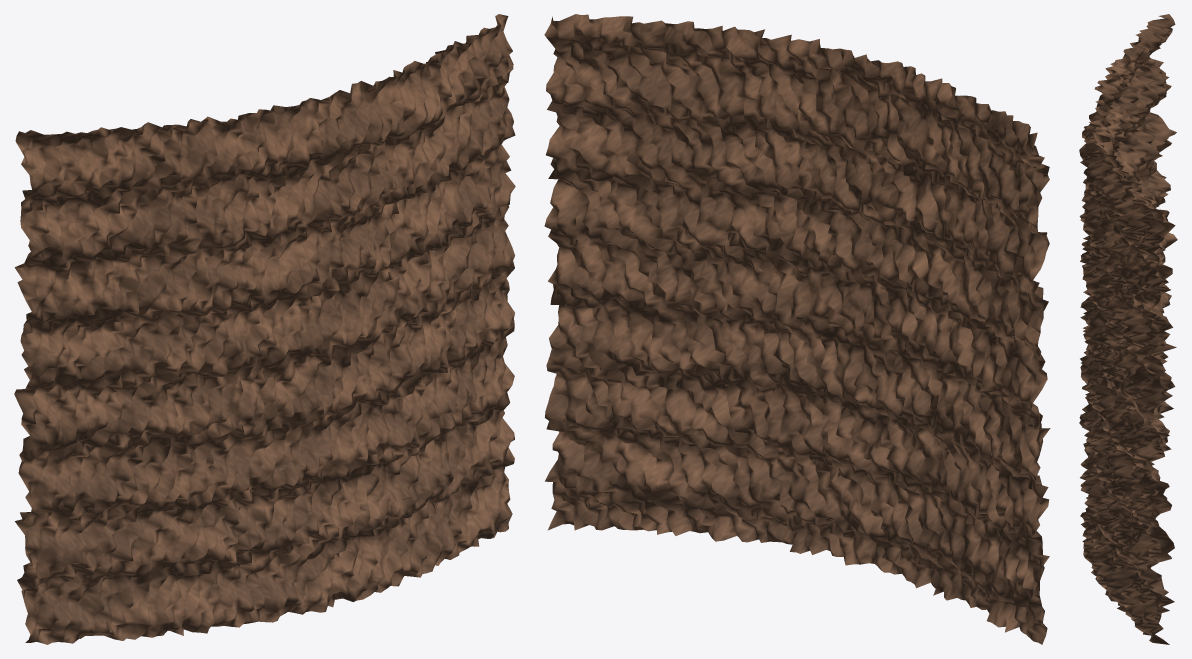
Rendered from CurvedCanyonWall.obj.
3 renders of one model, left to right at view 1: azimuth 30°, elevation 25°; view 2: azimuth 150°, elevation 25°; view 3: azimuth 270°, elevation 25°, orthographic. The views are drawn at different scales.
Visible parts, largest first — view 1: CurvedCanyonWall_HD; view 2: CurvedCanyonWall_HD; view 3: CurvedCanyonWall_HD.
Boxes of the visible parts, left/top/right/bottom form: CurvedCanyonWall_HD: left=14, top=14, right=515, bottom=644; CurvedCanyonWall_HD: left=544, top=14, right=1050, bottom=644; CurvedCanyonWall_HD: left=1079, top=14, right=1177, bottom=644.
Bounding box in the file's own units: 2 × 2 × 0.4157.
1 material, 1 textured.
